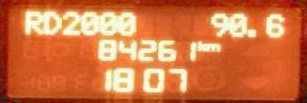-: (246, 27, 257, 39)
0: (140, 66, 163, 93), (97, 10, 116, 35), (116, 9, 135, 34), (79, 9, 97, 35), (228, 12, 245, 37)
1: (102, 67, 111, 91), (187, 38, 196, 61)
2: (61, 10, 79, 35), (138, 38, 157, 61)
4: (117, 36, 136, 59)
6: (264, 12, 285, 37), (157, 38, 176, 61)
7: (167, 67, 189, 92)
8: (112, 66, 133, 92), (96, 37, 116, 60)
9: (209, 11, 228, 36)
X: (42, 9, 61, 36), (23, 8, 41, 35), (205, 41, 221, 51), (197, 39, 204, 51)
